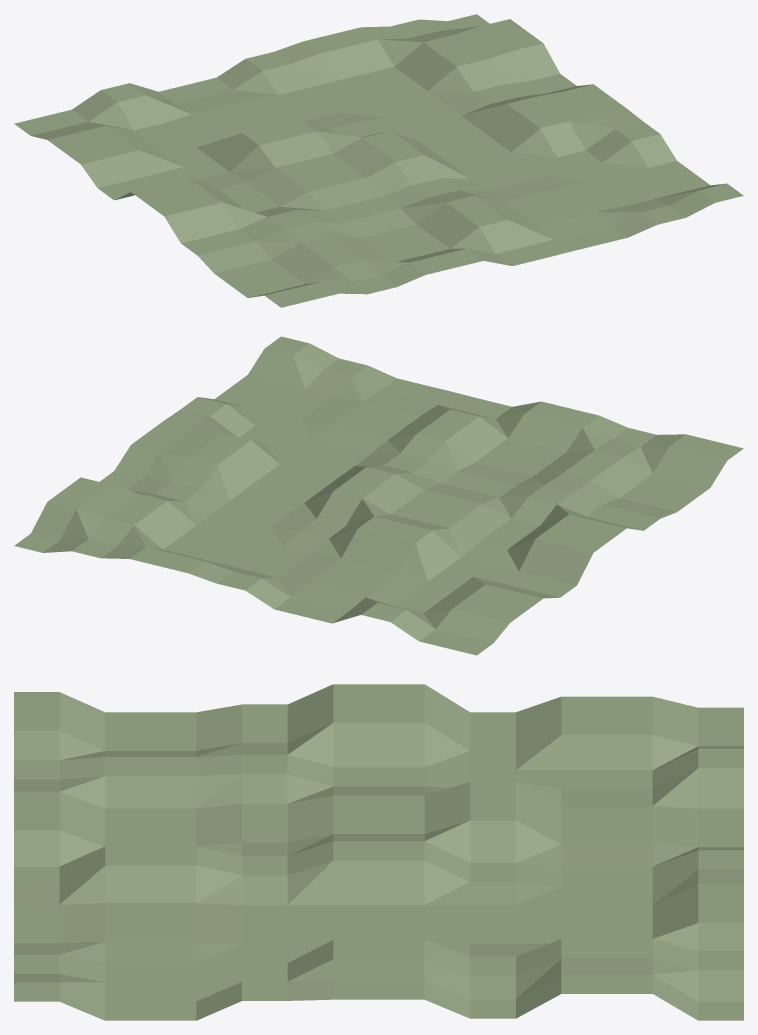
3 views of the same model, one above another, from view 1: azimuth 30°, elevation 25°; view 2: azimuth 150°, elevation 25°; view 3: azimuth 270°, elevation 25° (orthographic). The views are drawn at different scales.
Bounding box in the file's own units: 32 × 1.36 × 32.
